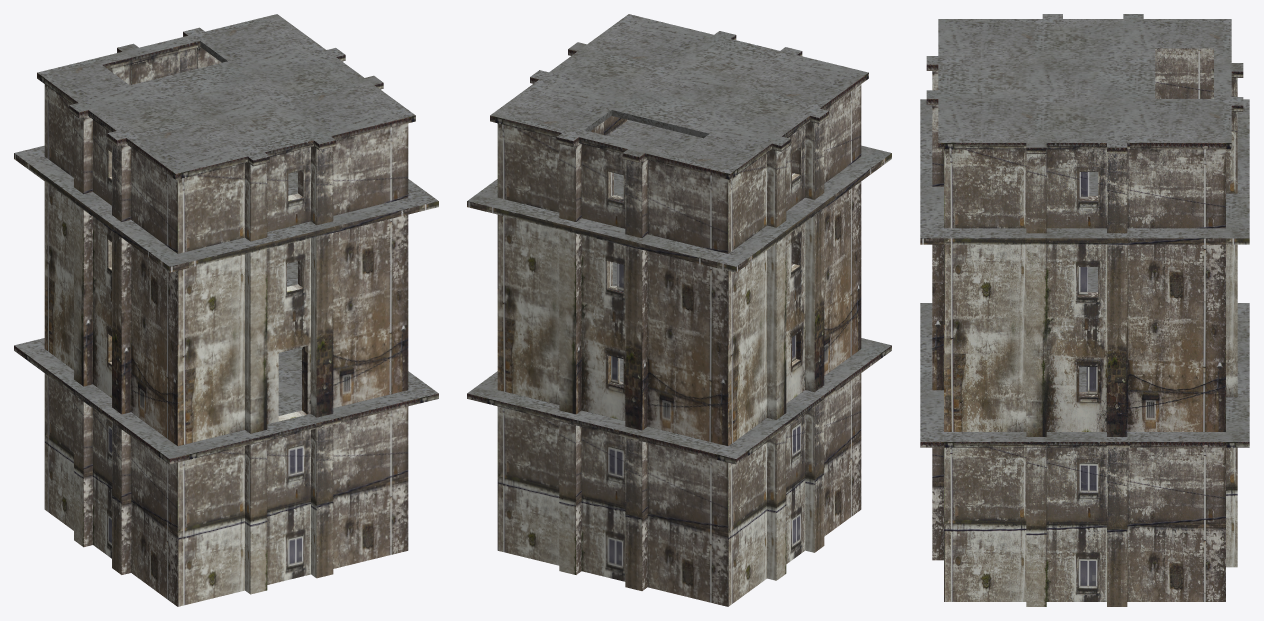
The model's file is BagBuilding21_140.fbx.
3 renders of one model, left to right at view 1: azimuth 30°, elevation 25°; view 2: azimuth 150°, elevation 25°; view 3: azimuth 270°, elevation 25°, orthographic. The views are drawn at different scales.
Visible parts, largest first — view 1: main140, floors140; view 2: main140, floors140; view 3: main140, floors140.
Part boxes in pixels (left/top/right/bottom): main140: left=14, top=32, right=438, bottom=606; floors140: left=14, top=14, right=438, bottom=458; main140: left=467, top=35, right=891, bottom=606; floors140: left=467, top=14, right=891, bottom=458; main140: left=920, top=48, right=1249, bottom=606; floors140: left=920, top=14, right=1249, bottom=441.
Size of the model in its own units: 19.63 by 30.36 by 19.62.
